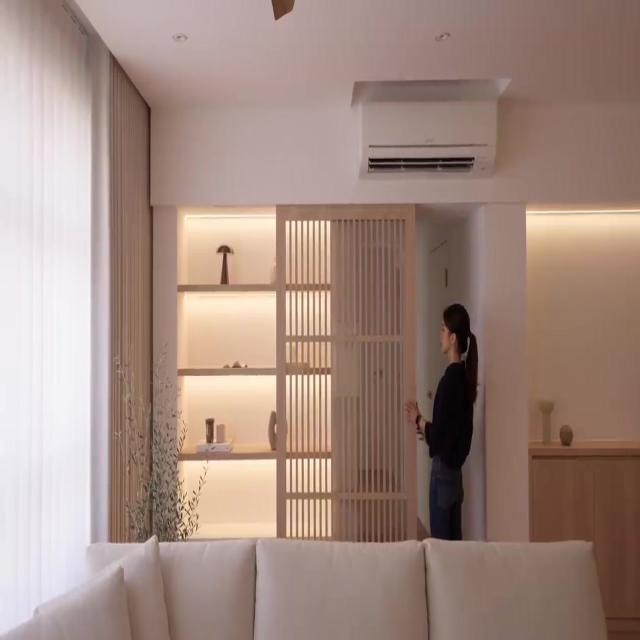obstacle: (4, 534, 608, 638)
person: (404, 302, 478, 540)
